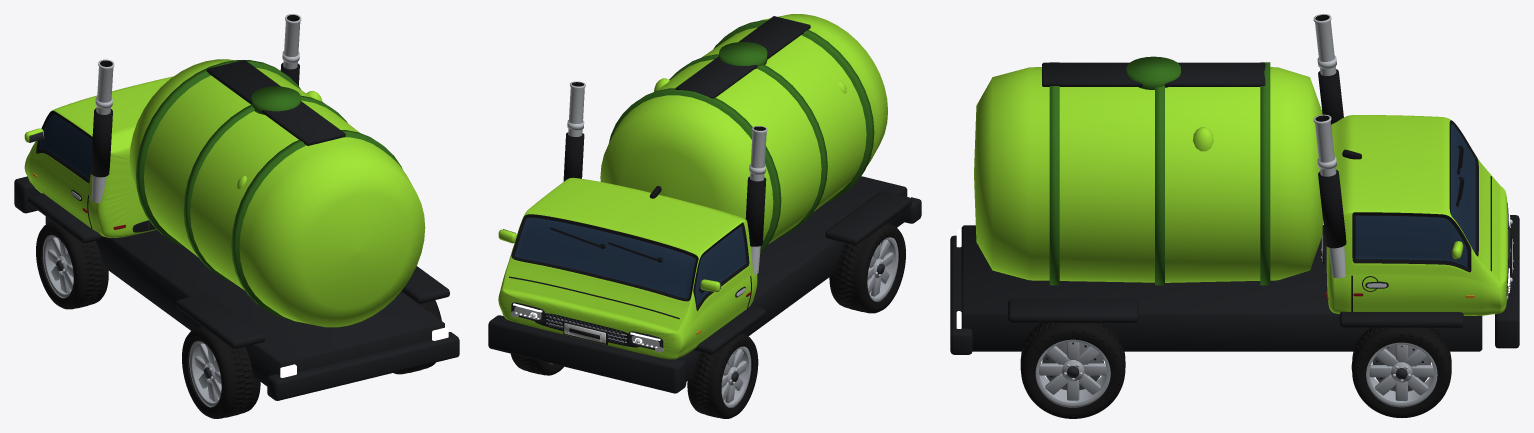
File: goo.glb
3 renders of one model, left to right at view 1: azimuth 30°, elevation 25°; view 2: azimuth 150°, elevation 25°; view 3: azimuth 270°, elevation 25°, orthographic. The views are drawn at different scales.
Visible parts, largest first — view 1: Body, Wheel_RL, Wheel_FL; view 2: Body, Wheel_RL, Wheel_FL, Wheel_FR; view 3: Body, Wheel_RR, Wheel_FR.
Boxes of the visible parts, x1,y1,x2,y2 form: Body: (14, 14, 459, 400); Wheel_RL: (182, 326, 260, 418); Wheel_FL: (36, 221, 108, 309); Body: (488, 14, 921, 393); Wheel_RL: (829, 223, 905, 313); Wheel_FL: (687, 333, 758, 418); Wheel_FR: (511, 353, 563, 375); Body: (950, 14, 1519, 354); Wheel_RR: (1020, 323, 1125, 418); Wheel_FR: (1351, 327, 1451, 417).
Size of what is drawn, in the model's own units: 2.33 by 2.63 by 4.59.
